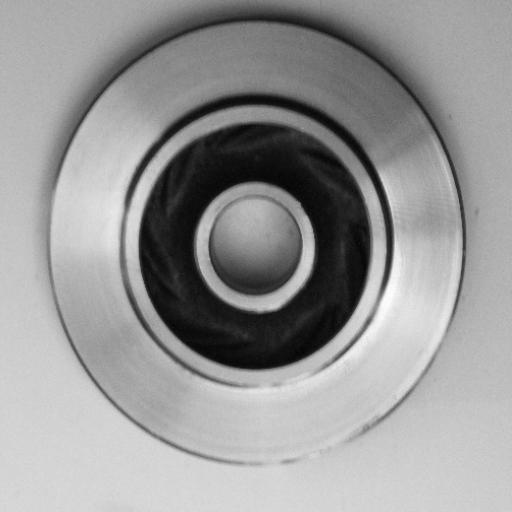scratch: (224, 429, 378, 487), (247, 356, 336, 398)
unpolished_casting: (47, 17, 466, 467)
